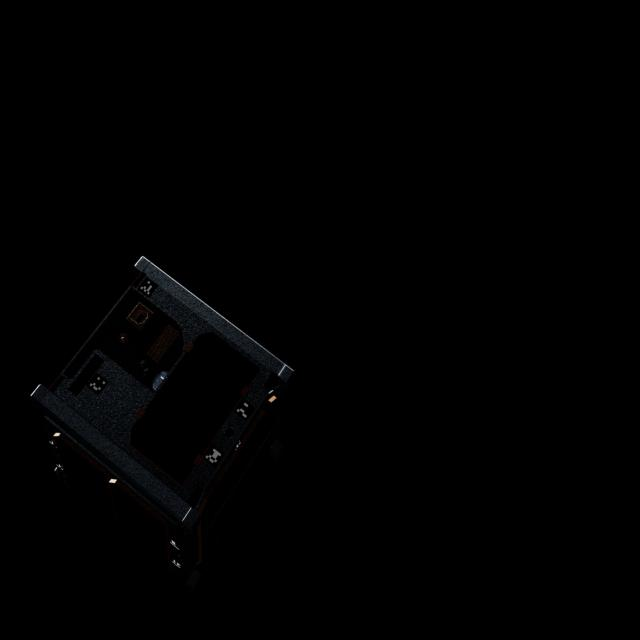medium_debris: (28, 252, 300, 604)
